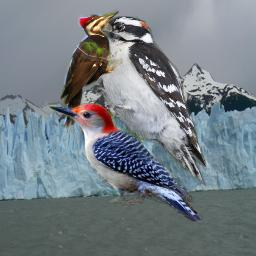Woodpecker: (81, 16, 206, 186), (49, 103, 203, 222), (59, 9, 123, 129)
